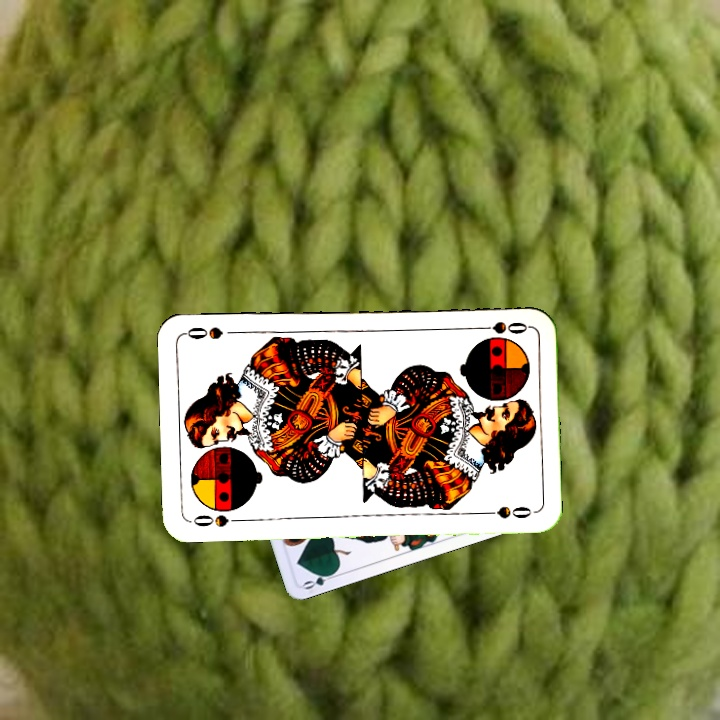GO: (299, 568, 340, 592)
SO: (187, 506, 246, 530), (472, 317, 531, 337)
